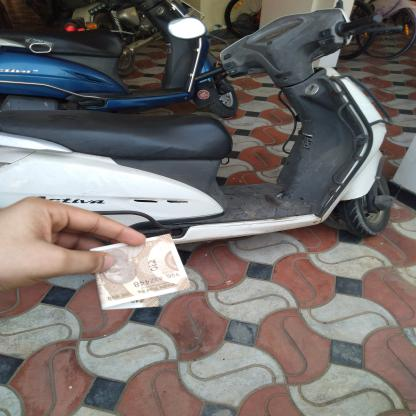New10Front: (93, 234, 185, 304)
